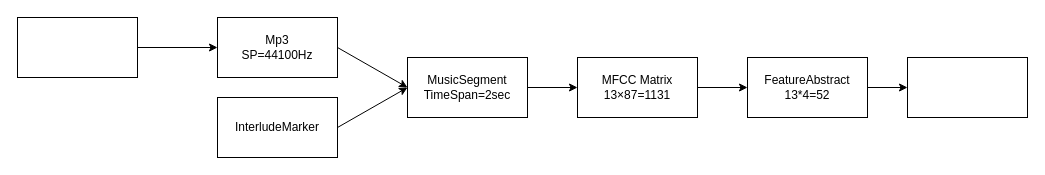
This 1045x175 diagram has some shape labels left out. Here are the shapes that lost their labels. From the top down, the centre of each, then its label:
pixel 77 47: RawMp3File
pixel 967 87: SelectedAbstract
